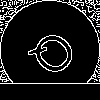Q: (25, 25, 88, 87)
